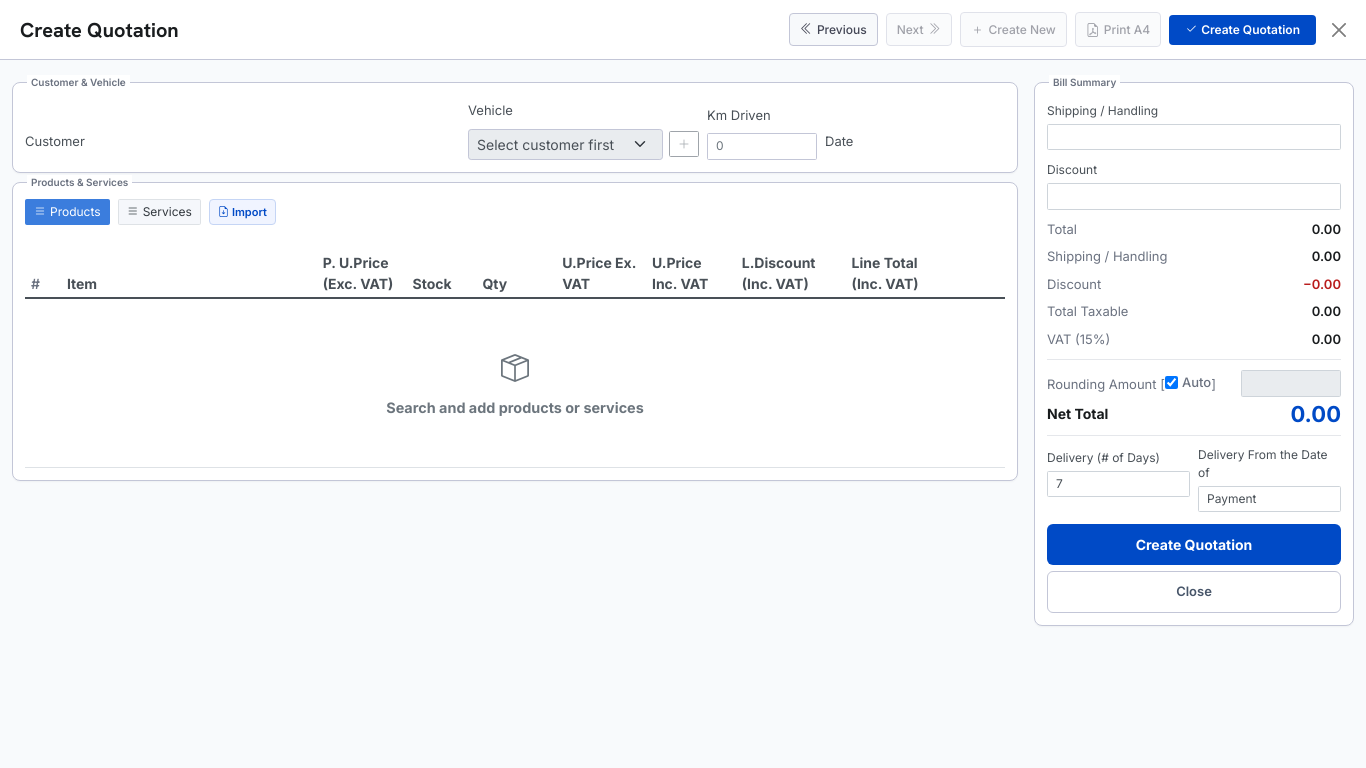
Test case: Quotation form type 3: Import dropdown (integration) › hides the P.O. option when the purchase order module is off
This screenshot has width=1366, height=768.
Click the button with test id "import-dropdown-btn": (242,212) [209, 198, 276, 225]
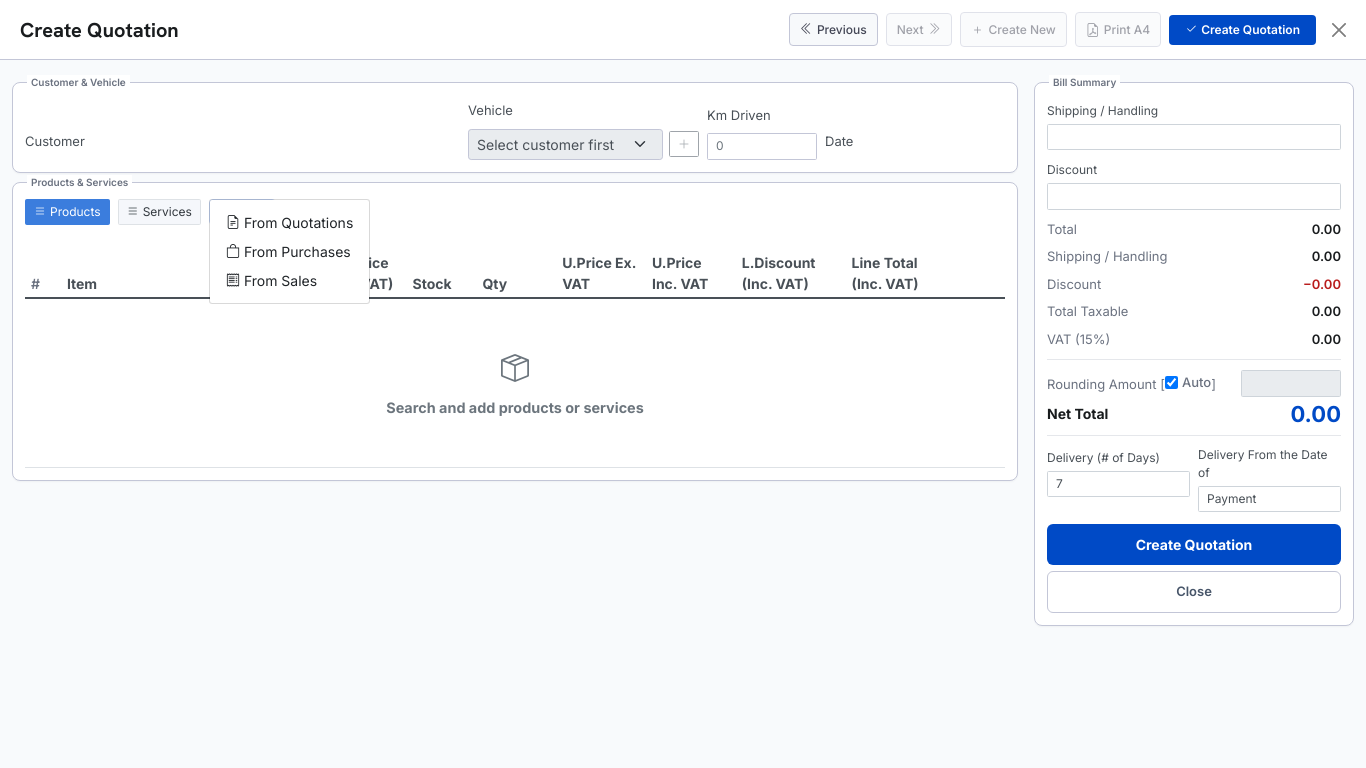
Result: the button with test id "import-from-sales-btn" is shown at [226, 272, 317, 288]
